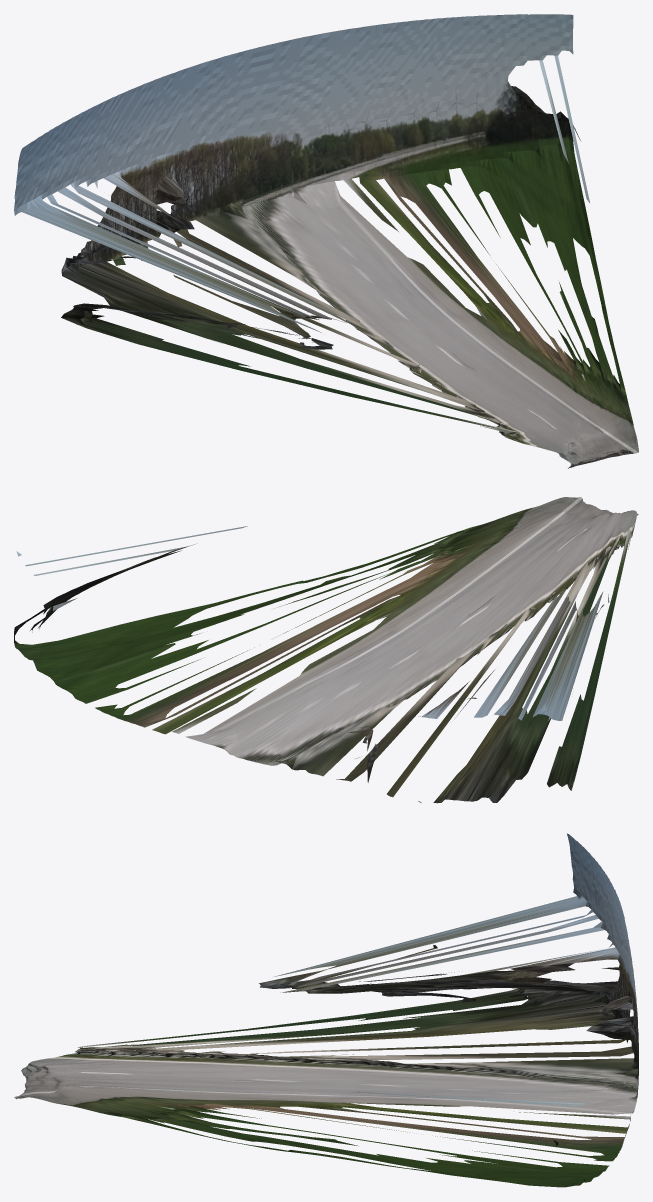
The picture shows the model from 3 angles, top to bottom: view 1: azimuth 30°, elevation 25°; view 2: azimuth 150°, elevation 25°; view 3: azimuth 270°, elevation 25°; orthographic projection. The views are drawn at different scales.
Visible parts, largest first — view 1: defaultobject; view 2: defaultobject; view 3: defaultobject.
Part boxes in pixels (x1=…): defaultobject: x1=14, y1=14, x2=638, y2=468; defaultobject: x1=14, y1=497, x2=638, y2=803; defaultobject: x1=14, y1=833, x2=638, y2=1187.
Bounding box in the file's own units: 40.95 × 12.36 × 44.8.
Materials: 1 (1 with a texture image).
